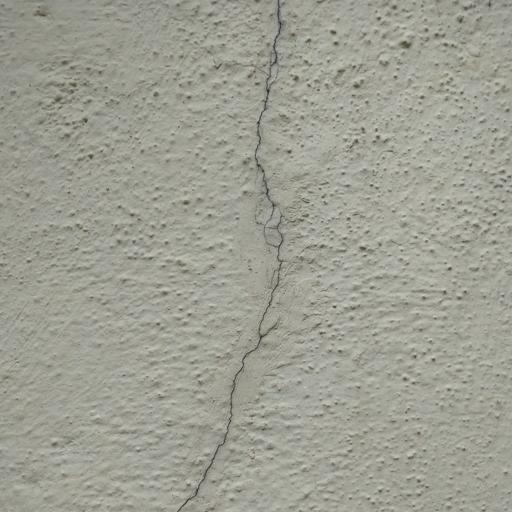minor_crack: (169, 0, 297, 512)
